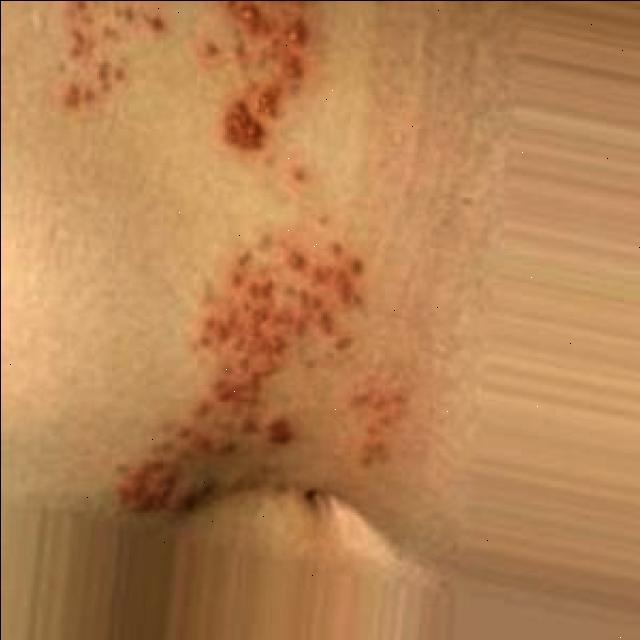Shingles: (101, 217, 410, 520), (35, 0, 309, 155)
